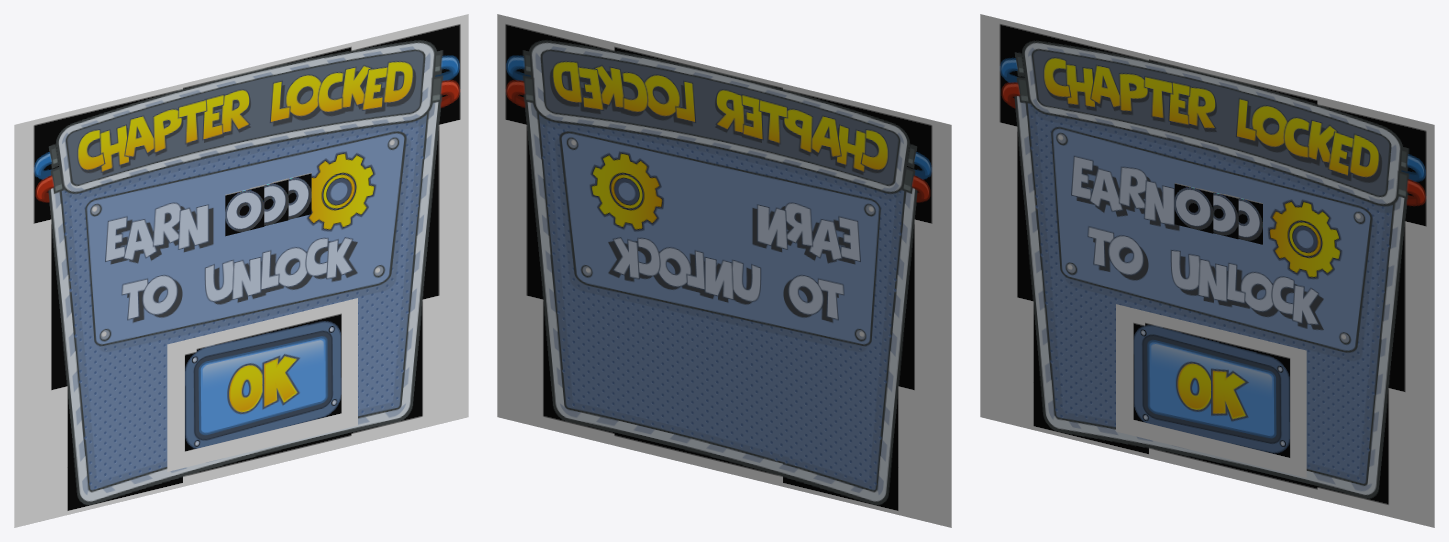
File: pack_help_window.glb
3 views of the same model, side by side, from view 1: azimuth 30°, elevation 25°; view 2: azimuth 150°, elevation 25°; view 3: azimuth 330°, elevation 25° (orthographic).
Parts seen in each view (by area): view 1: pack_help_window, ph_ok, ph_1, ph_2, ph_3; view 2: pack_help_window; view 3: pack_help_window, ph_ok, ph_1, ph_2, ph_3.
Part boxes in pixels (x1=…): pack_help_window: x1=14, y1=14, x2=468, y2=527; ph_ok: x1=167, y1=298, x2=357, y2=471; ph_1: x1=225, y1=185, x2=264, y2=236; ph_2: x1=250, y1=179, x2=288, y2=225; ph_3: x1=272, y1=172, x2=311, y2=219; pack_help_window: x1=497, y1=14, x2=951, y2=527; pack_help_window: x1=980, y1=14, x2=1434, y2=527; ph_ok: x1=1116, y1=304, x2=1306, y2=477; ph_1: x1=1174, y1=183, x2=1213, y2=233; ph_2: x1=1199, y1=188, x2=1238, y2=239; ph_3: x1=1224, y1=194, x2=1262, y2=244.
Size of the model in its own units: 496 by 420 by 16.46.
Materials: 2 (2 with a texture image).
